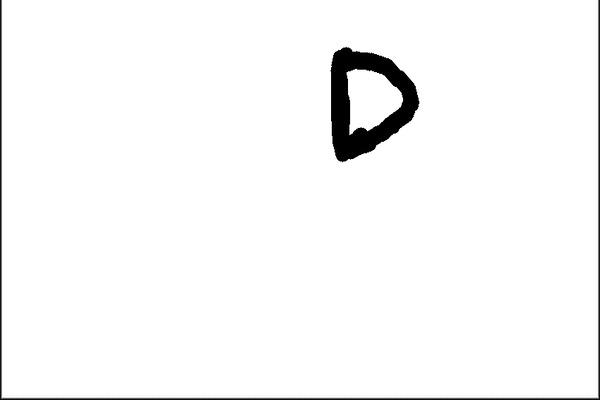D: (321, 40, 425, 162)
